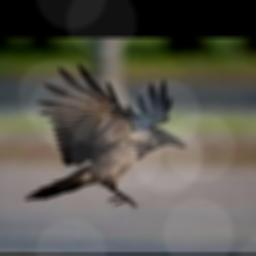Crow: (22, 63, 185, 207)
